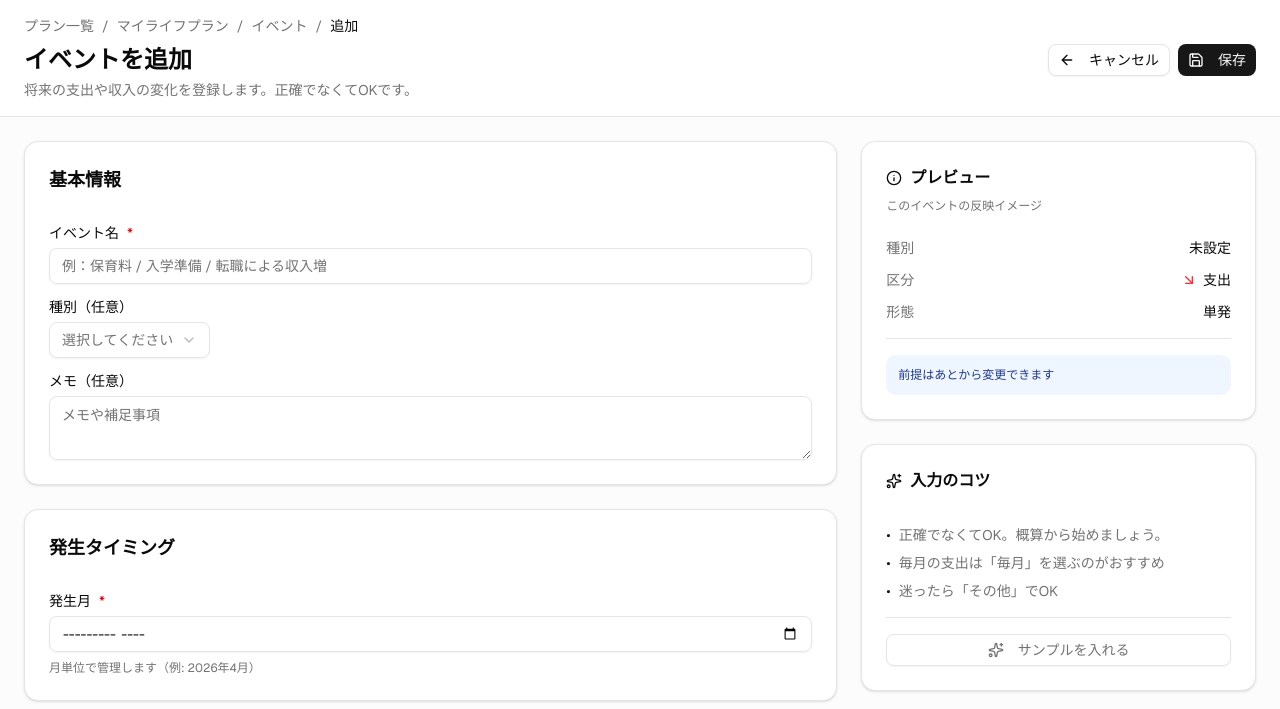
Test: EventCreatePage › shows validation errors when required fields are missing
The image size is (1280, 709).
Click the button "保存": (1217,60) [1178,44,1256,76]
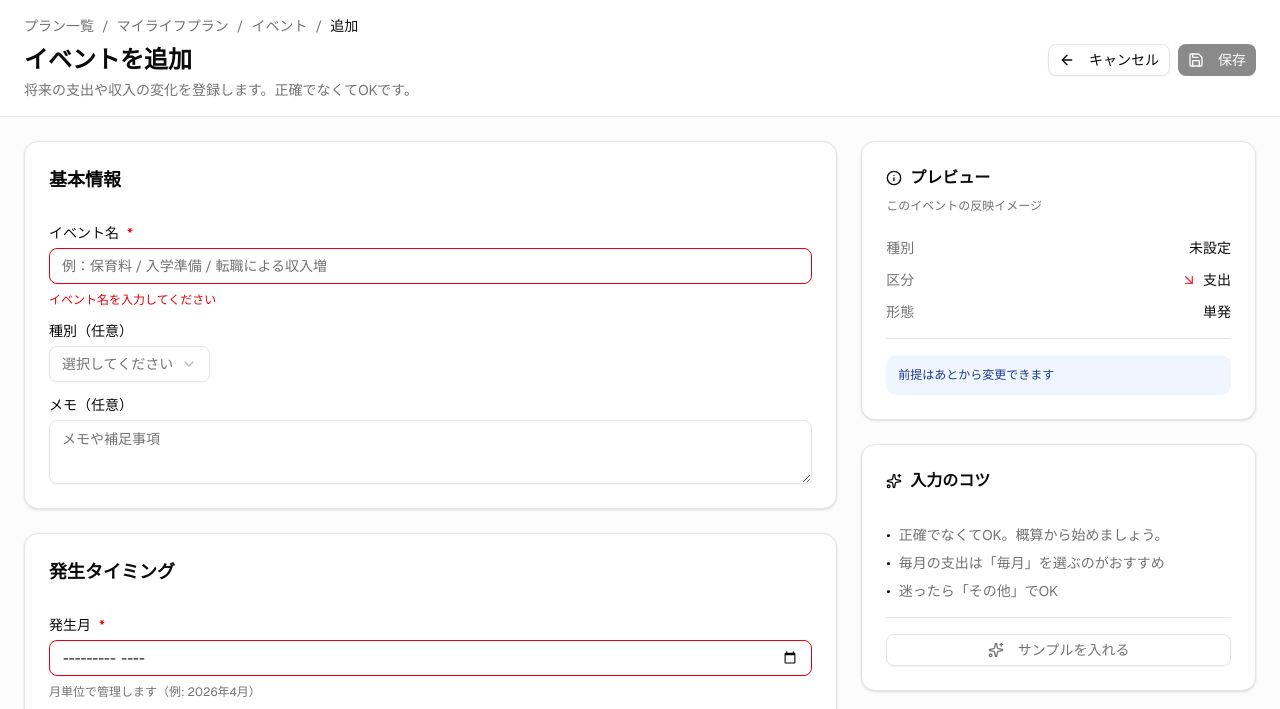
Expected: the text "*" below "基本情報" is shown, [127,226,133,240]
Now the button "保存" is disabled, box [1178,44,1256,76]
